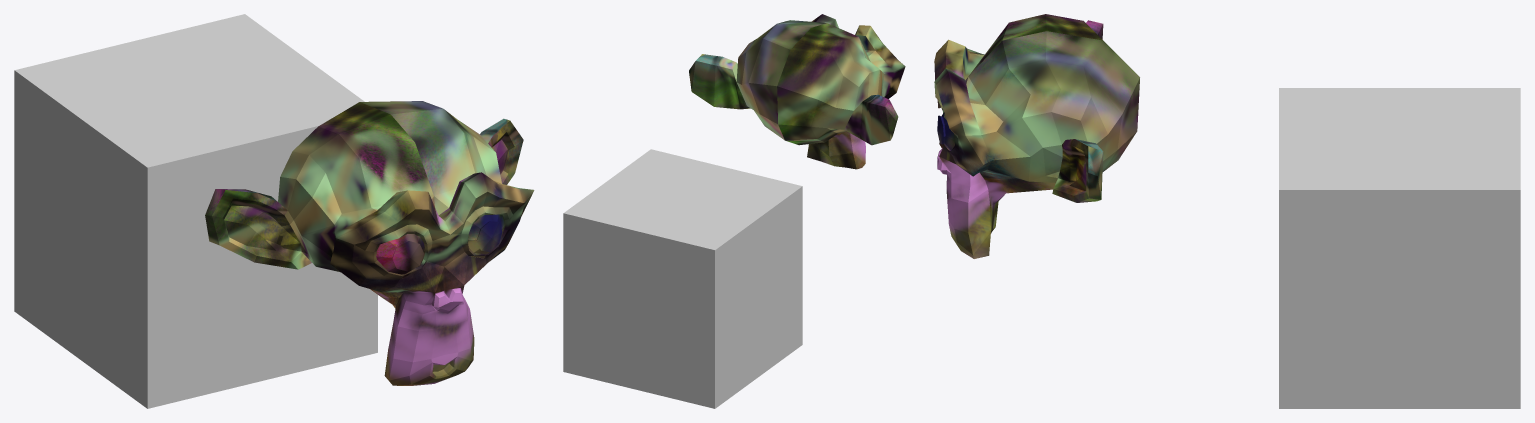
The model's file is Monkerton.glb.
3 renders of one model, left to right at view 1: azimuth 30°, elevation 25°; view 2: azimuth 150°, elevation 25°; view 3: azimuth 270°, elevation 25°, orthographic. The views are drawn at different scales.
Visible parts, largest first — view 1: Cube, Suzanne; view 2: Cube, Suzanne; view 3: Cube, Suzanne.
Boxes of the visible parts, x1,y1,x2,y2 form: Cube: (14, 14, 377, 408); Suzanne: (205, 101, 534, 385); Cube: (563, 149, 802, 408); Suzanne: (689, 14, 905, 169); Cube: (1279, 88, 1520, 408); Suzanne: (934, 14, 1139, 258).
Bounding box in the file's own units: 2.73 × 2.98 × 4.85.
2 materials, 1 textured.
